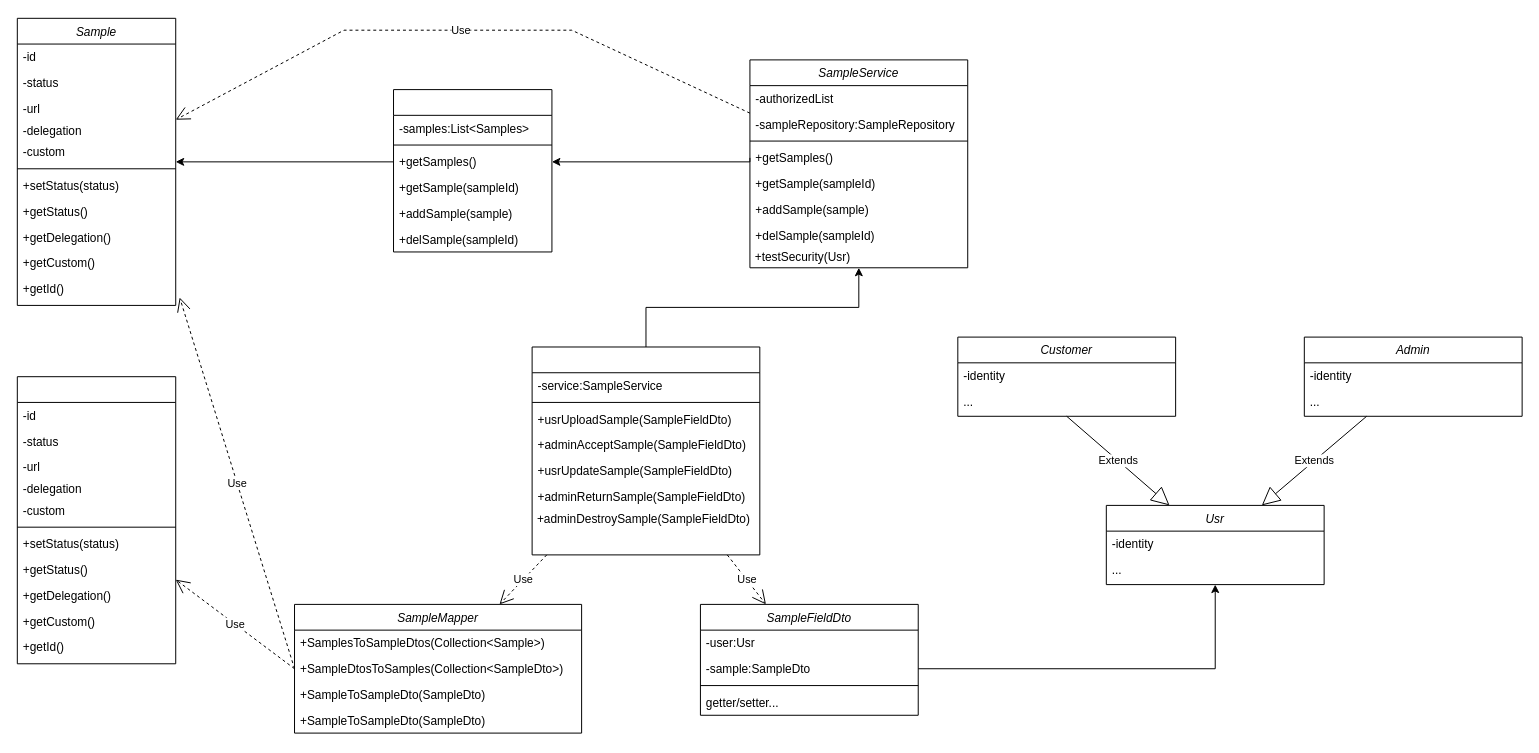
Some shapes in this 1539 by 753 pixel diagram are drawn without their labels. The box of each missing label's shape, as (x1, y1, x2, y2) in pixels:
SampleController: (531, 346, 760, 555)
SampleDto: (16, 376, 176, 664)
SampleRepository: (393, 89, 552, 252)
